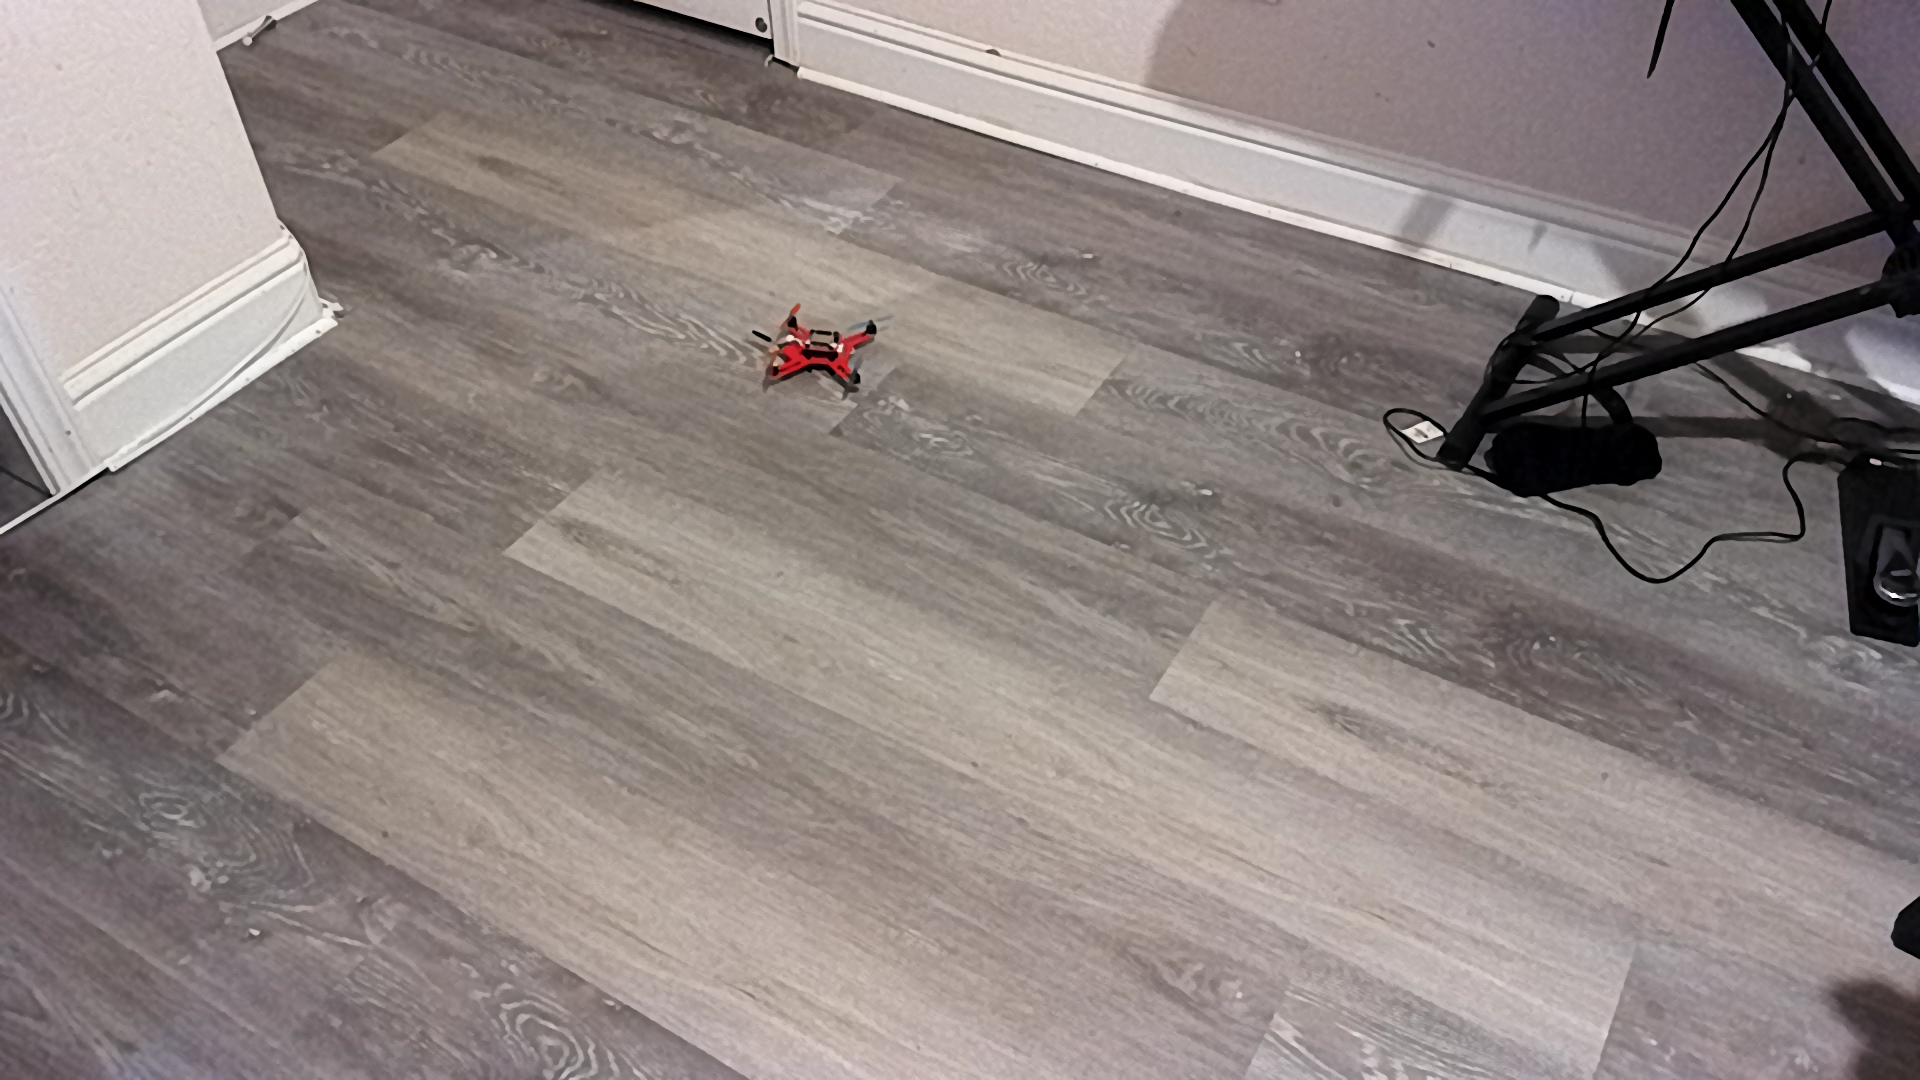drone: (748, 299, 899, 401)
